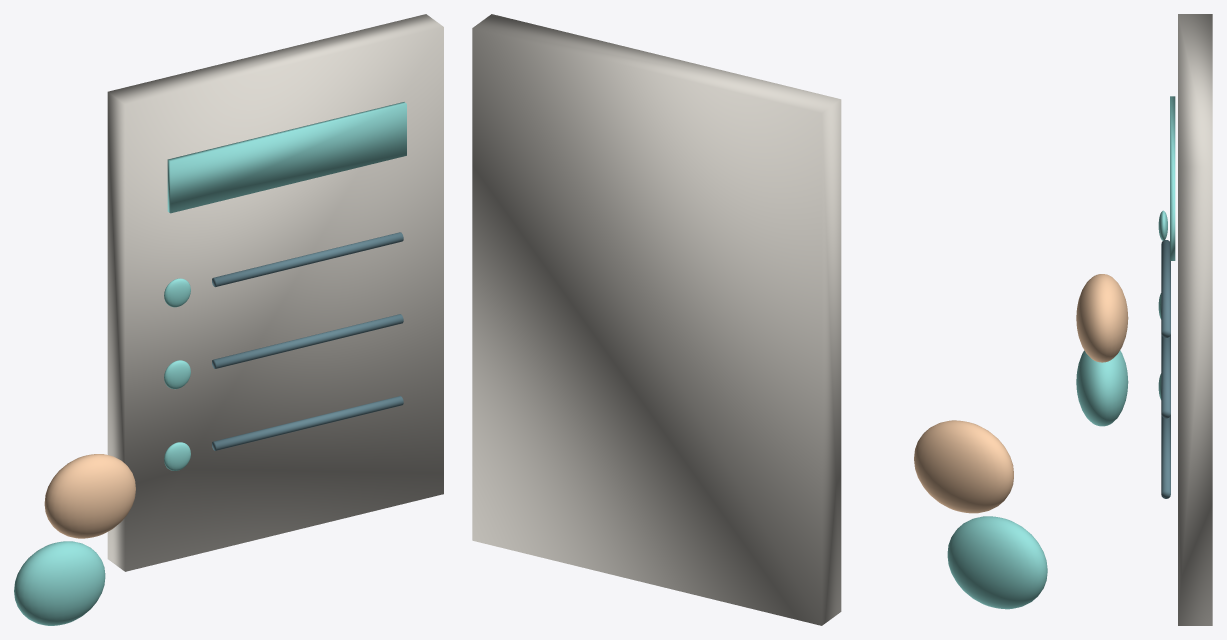
Rendered from safety-medication.glb.
The picture shows the model from 3 angles, left to right: view 1: azimuth 30°, elevation 25°; view 2: azimuth 150°, elevation 25°; view 3: azimuth 270°, elevation 25°; orthographic projection. The views are drawn at different scales.
Parts seen in each view (by area): view 1: static #eee5d3, static #49bdb4, static #203c48, static #f2a066; view 2: static #eee5d3, static #49bdb4, static #f2a066; view 3: static #eee5d3, static #49bdb4, static #f2a066, static #203c48.
Boxes of the visible parts, x1,y1,x2,y2 form: static #eee5d3: (107, 14, 443, 571); static #49bdb4: (14, 102, 406, 625); static #203c48: (212, 232, 403, 450); static #f2a066: (44, 454, 135, 538); static #eee5d3: (472, 14, 841, 625); static #49bdb4: (947, 516, 1047, 609); static #f2a066: (914, 420, 1013, 513); static #eee5d3: (1178, 14, 1212, 625); static #49bdb4: (1076, 96, 1175, 426); static #f2a066: (1076, 274, 1128, 362); static #203c48: (1161, 240, 1170, 498).
Bounding box in the file's own units: 0.2445 × 0.234 × 0.063.
